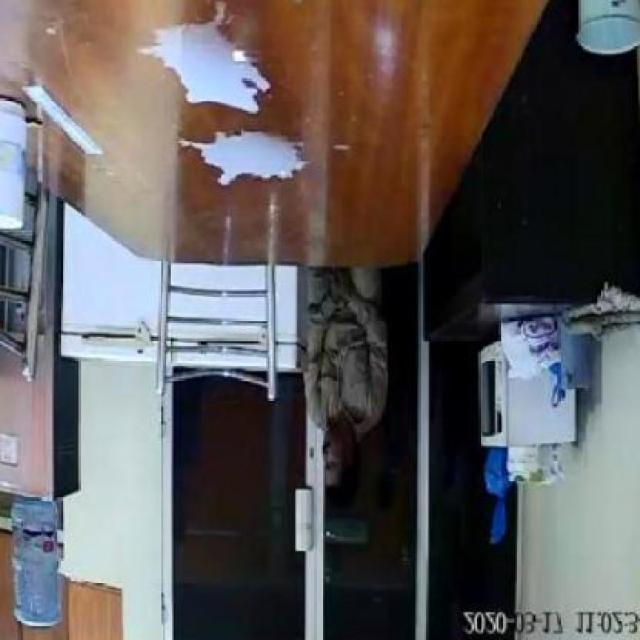spillage: (148, 18, 274, 115), (191, 130, 309, 186)
